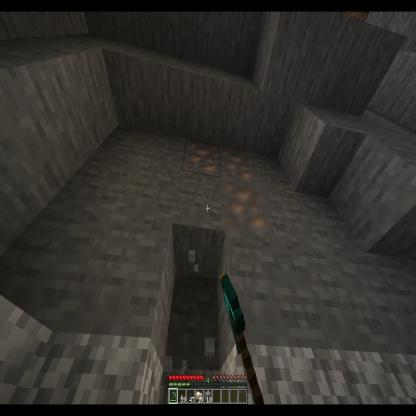iron ore: (221, 184, 272, 236), (180, 139, 222, 181), (219, 143, 253, 185)
